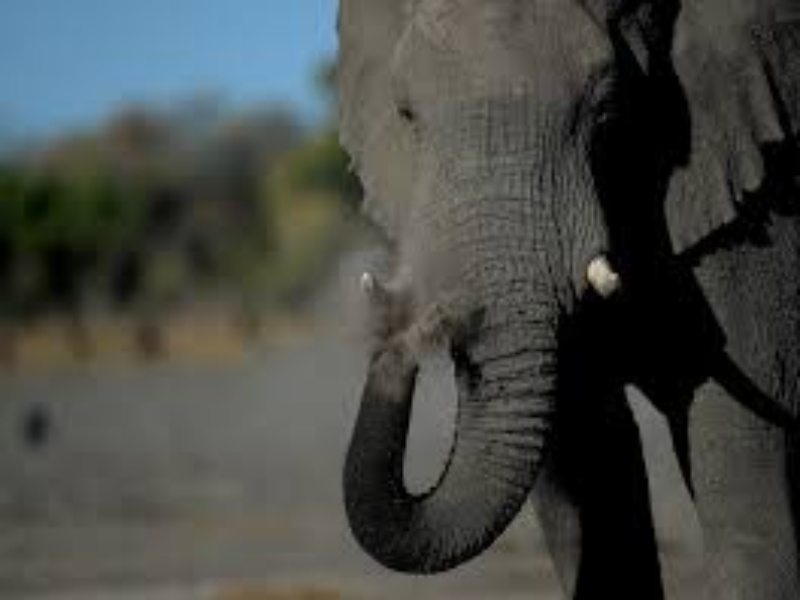elephant: (293, 4, 800, 600)
